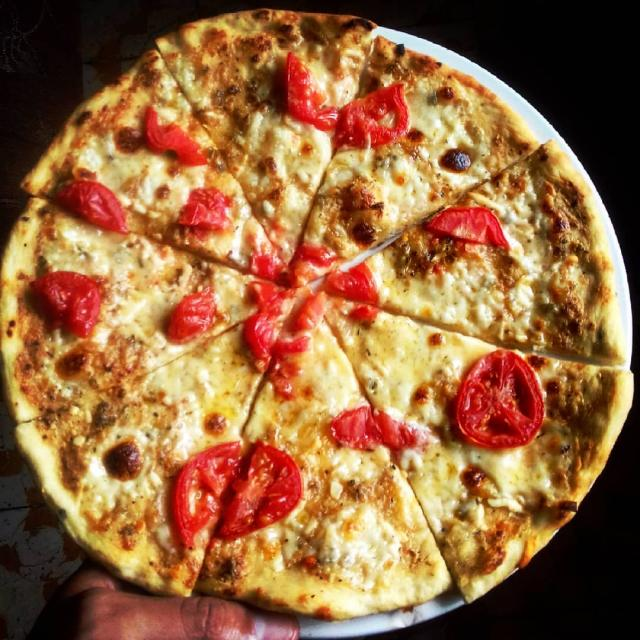pizza: (0, 10, 634, 621)
tomatoes: (168, 436, 245, 550), (456, 355, 545, 451), (217, 445, 304, 539), (332, 82, 412, 150), (28, 272, 105, 340), (322, 409, 415, 464), (283, 51, 340, 138), (53, 172, 127, 233), (248, 282, 298, 370), (140, 110, 213, 166), (426, 206, 512, 252), (320, 267, 386, 326), (254, 240, 344, 281), (167, 286, 221, 346), (176, 190, 236, 235)
